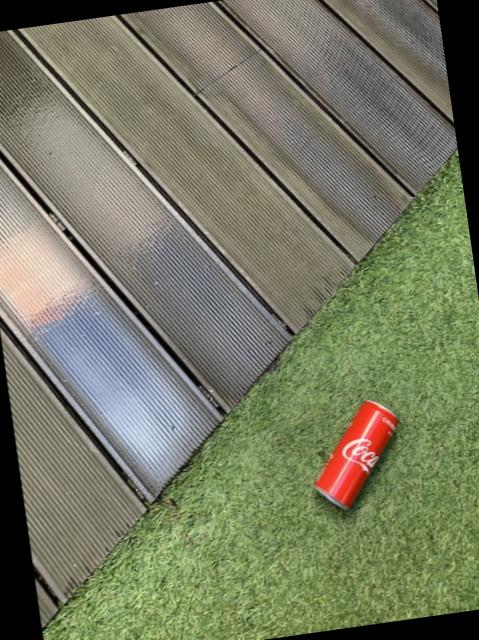metal: (314, 401, 397, 509)
